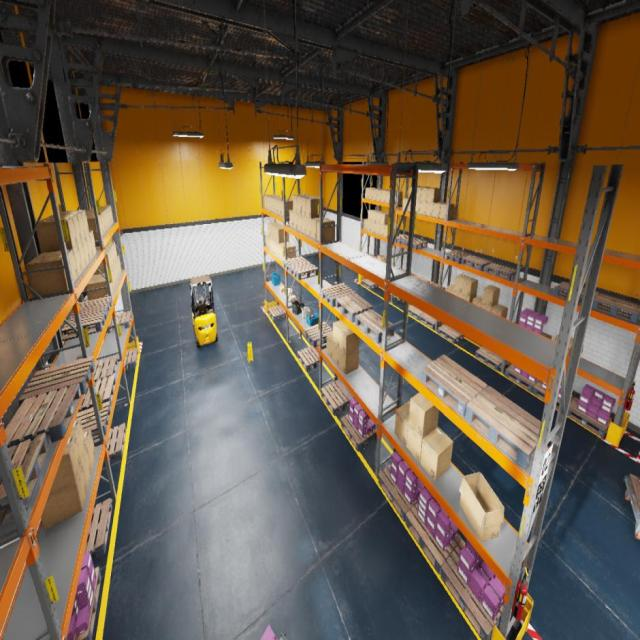box: (459, 472, 504, 541), (41, 464, 87, 530), (49, 435, 81, 495), (25, 254, 69, 296), (421, 427, 453, 481), (35, 217, 77, 253), (34, 249, 78, 283), (409, 392, 439, 438), (407, 423, 437, 463), (43, 214, 82, 244), (49, 212, 86, 240), (59, 210, 89, 236), (394, 400, 410, 448), (69, 419, 86, 462), (339, 326, 359, 355), (338, 348, 359, 374), (90, 273, 114, 294), (555, 335, 583, 353), (86, 278, 108, 300), (86, 208, 110, 228), (86, 210, 108, 231), (84, 430, 95, 470), (89, 207, 112, 226), (94, 250, 112, 274), (82, 446, 92, 489), (96, 242, 118, 261), (86, 213, 104, 236), (311, 217, 329, 240), (87, 212, 106, 233), (95, 245, 116, 264), (317, 220, 335, 242), (92, 206, 114, 223), (482, 286, 500, 306), (306, 197, 323, 218), (333, 320, 346, 347), (301, 196, 317, 217), (97, 248, 114, 267), (462, 277, 478, 297), (86, 217, 99, 240), (74, 245, 83, 277), (297, 195, 312, 214), (454, 274, 469, 292), (293, 194, 307, 213), (491, 304, 508, 318), (78, 241, 86, 270), (440, 204, 455, 219), (432, 202, 447, 217), (82, 238, 90, 266), (427, 188, 441, 203), (274, 198, 287, 214), (282, 244, 295, 260), (279, 242, 292, 258), (281, 200, 293, 217), (276, 226, 288, 243), (89, 231, 97, 256), (421, 187, 434, 202), (278, 199, 290, 215), (270, 223, 282, 239), (86, 234, 93, 261), (408, 187, 422, 200), (267, 194, 278, 210), (268, 222, 279, 237), (270, 195, 280, 211), (416, 187, 428, 200), (264, 195, 275, 209), (333, 341, 339, 366), (272, 197, 282, 212), (273, 225, 283, 240), (481, 303, 498, 311), (327, 332, 332, 359), (384, 225, 395, 237), (386, 190, 396, 203), (306, 217, 312, 237), (462, 294, 476, 302), (376, 212, 386, 223), (296, 214, 302, 232), (380, 212, 389, 224), (372, 210, 381, 222), (426, 202, 433, 217), (472, 296, 482, 306), (368, 210, 377, 221), (419, 201, 426, 215), (378, 189, 386, 201), (365, 187, 373, 199), (112, 266, 117, 285), (393, 226, 400, 239), (382, 189, 389, 202), (372, 189, 380, 200), (369, 188, 377, 199), (111, 269, 115, 290), (395, 192, 402, 204), (402, 198, 408, 211), (116, 259, 120, 278), (302, 215, 306, 234), (118, 255, 122, 273), (446, 285, 454, 294), (294, 212, 298, 229), (289, 210, 293, 227), (415, 201, 420, 214), (454, 290, 462, 298), (377, 255, 386, 262), (379, 224, 384, 236), (115, 262, 118, 281), (375, 223, 380, 234), (363, 219, 368, 230), (290, 294, 296, 302), (284, 293, 292, 299), (368, 220, 372, 232), (372, 222, 376, 233), (276, 242, 279, 256), (271, 238, 274, 252), (268, 236, 271, 250), (288, 288, 293, 295), (284, 287, 290, 292), (266, 233, 268, 248), (274, 240, 276, 254), (408, 199, 410, 212), (280, 287, 284, 292)
forklift: (190, 274, 218, 348)
pallets: (440, 540, 504, 640), (465, 386, 541, 469), (5, 383, 81, 452), (0, 432, 48, 520), (422, 354, 488, 417), (18, 356, 95, 409), (405, 502, 461, 574), (378, 464, 418, 522), (74, 566, 100, 640), (567, 397, 612, 438), (85, 498, 112, 558), (61, 309, 108, 341), (591, 292, 640, 322), (78, 374, 116, 412), (75, 401, 111, 440), (341, 414, 377, 452), (355, 309, 395, 343), (95, 423, 126, 466), (532, 380, 574, 409), (321, 380, 351, 415), (336, 293, 372, 322), (554, 282, 599, 304), (505, 364, 539, 393), (321, 283, 355, 307), (72, 296, 112, 316), (475, 346, 507, 371), (92, 355, 118, 382), (304, 322, 332, 347), (298, 345, 322, 371), (627, 473, 640, 521), (106, 310, 132, 333), (485, 263, 516, 280), (437, 324, 464, 343), (290, 262, 318, 280), (462, 255, 492, 271), (283, 256, 309, 272), (444, 250, 472, 264), (419, 313, 442, 329), (268, 304, 286, 322), (124, 348, 138, 370), (409, 304, 424, 320), (405, 238, 428, 248), (361, 278, 378, 290), (395, 235, 415, 245), (414, 275, 430, 283), (430, 282, 445, 289), (401, 269, 414, 275), (542, 332, 551, 339), (368, 254, 377, 259)
